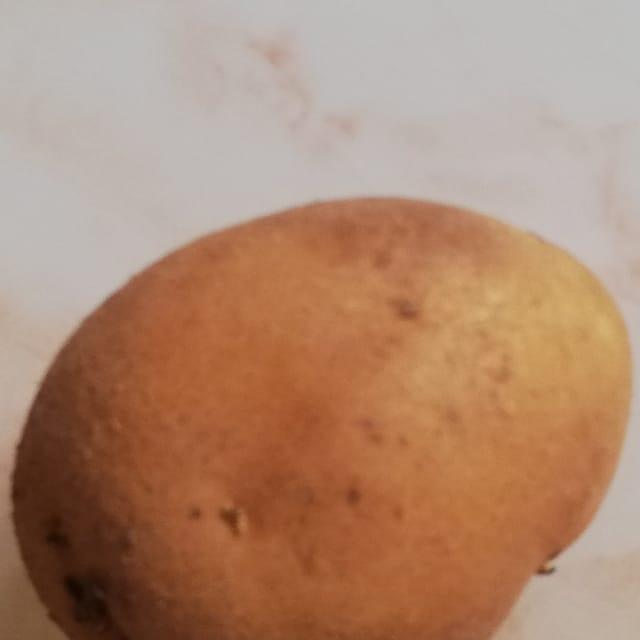potato: (0, 162, 640, 640)
